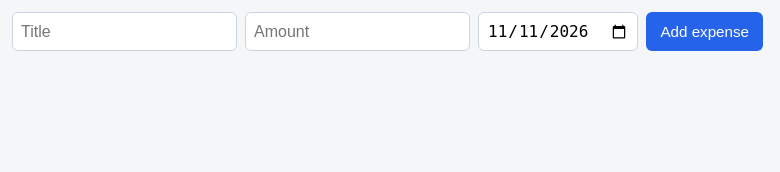
Test: ExpenseForm (add mode) › clears title and amount but keeps the date after a successful add
The image size is (780, 172).
Type "Coffee" into the field with placeholder "Title" at (124, 32), box [12, 12, 237, 51]
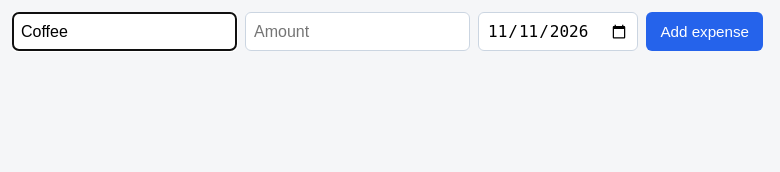
Type "4.5" into the number field with placeholder "Amount" at (358, 32), box [245, 12, 470, 51]
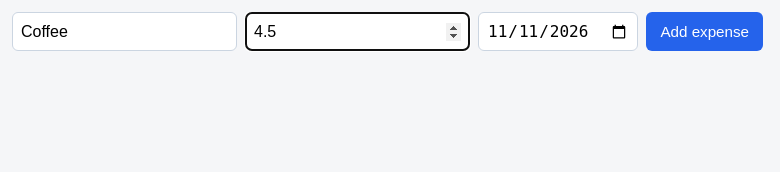
Click the button "Add expense" at (705, 32), box [646, 12, 764, 51]
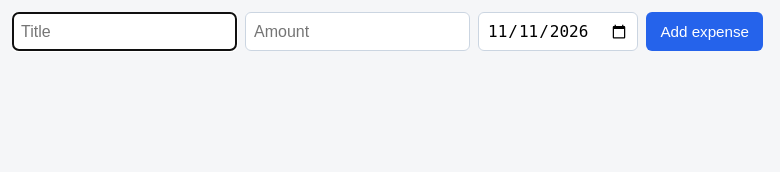
Result: the field with placeholder "Title" is empty at [12, 12, 237, 51]
Result: the number field with placeholder "Amount" is empty at [245, 12, 470, 51]
